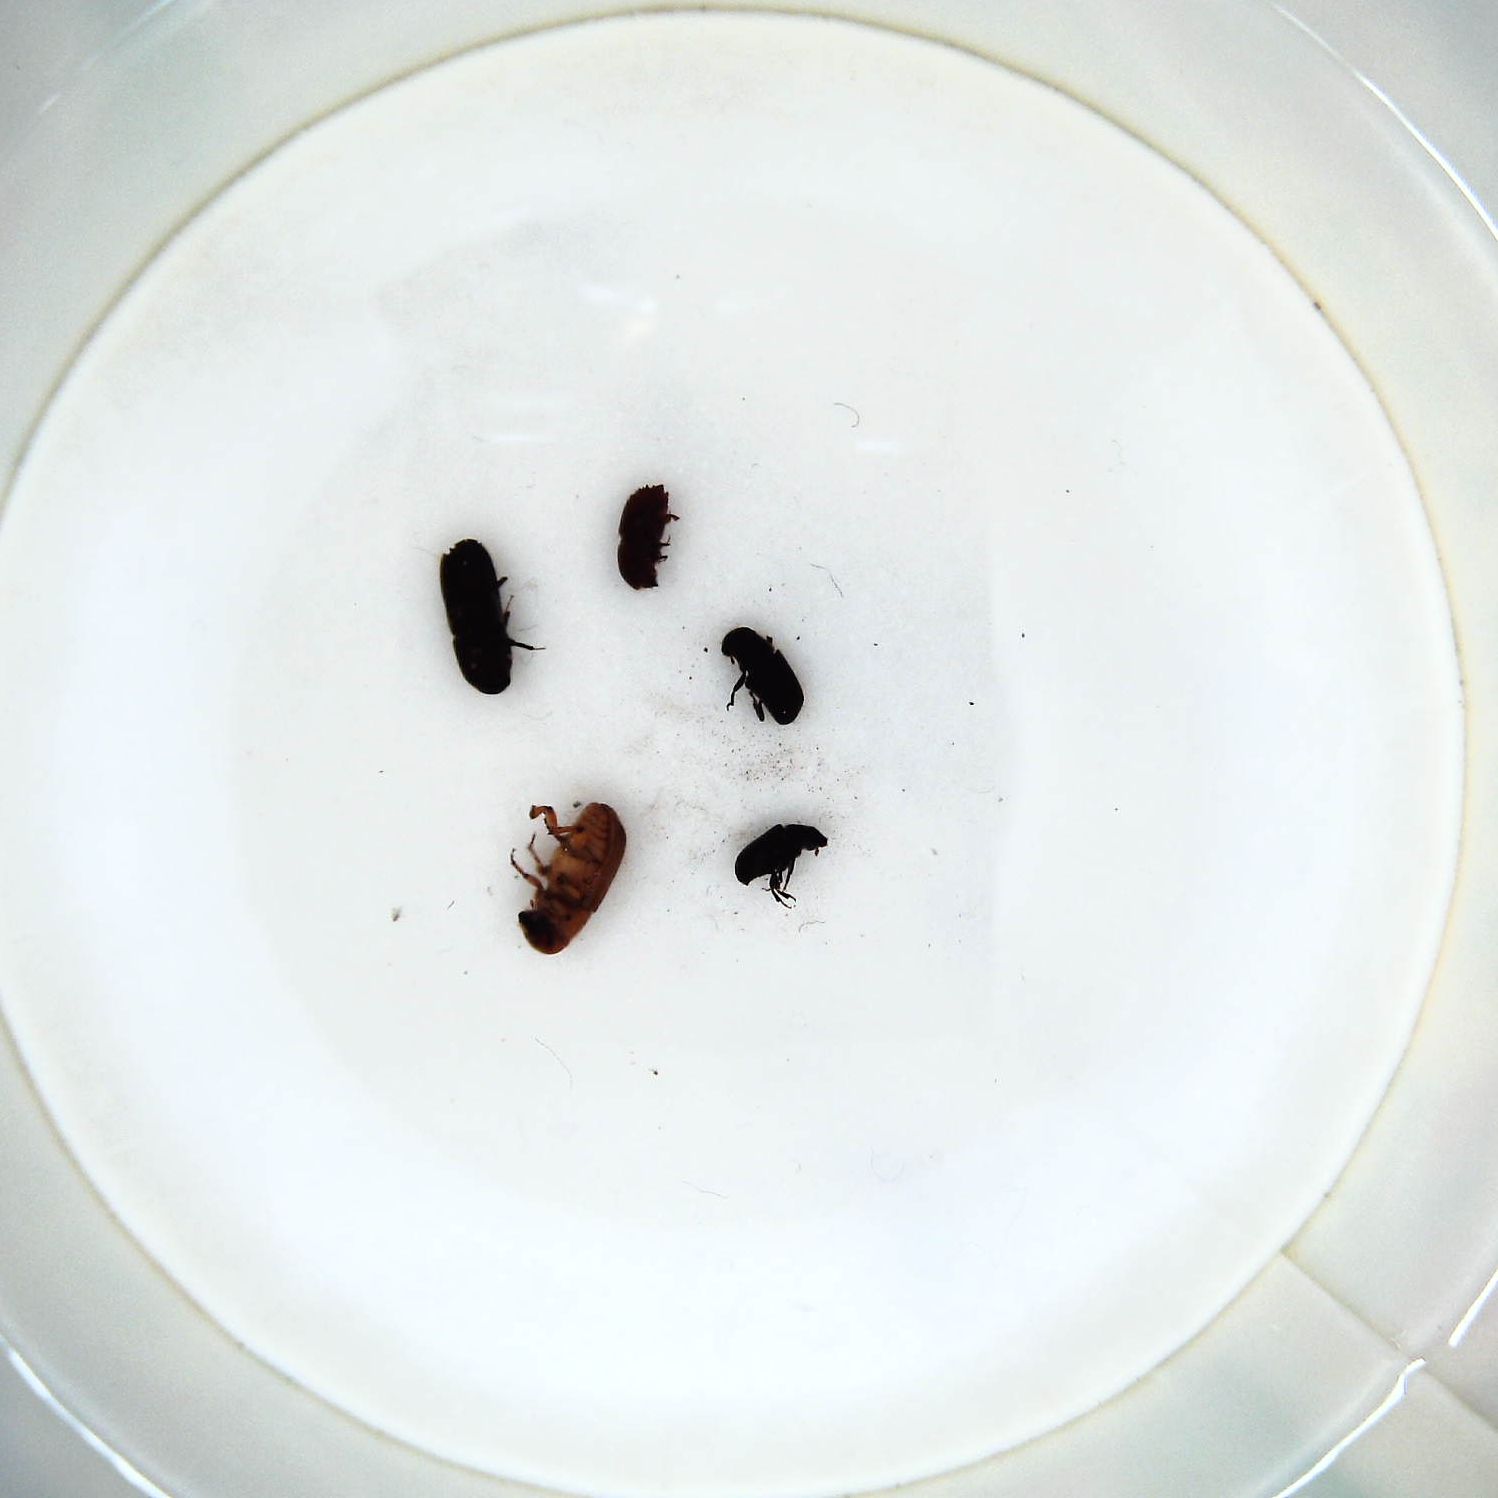Boerner: (438, 532, 547, 702)
Leconte: (514, 801, 638, 959)
armandi: (709, 619, 809, 737)
coleoptera: (737, 820, 834, 905)
linnaeus: (606, 476, 687, 601)
